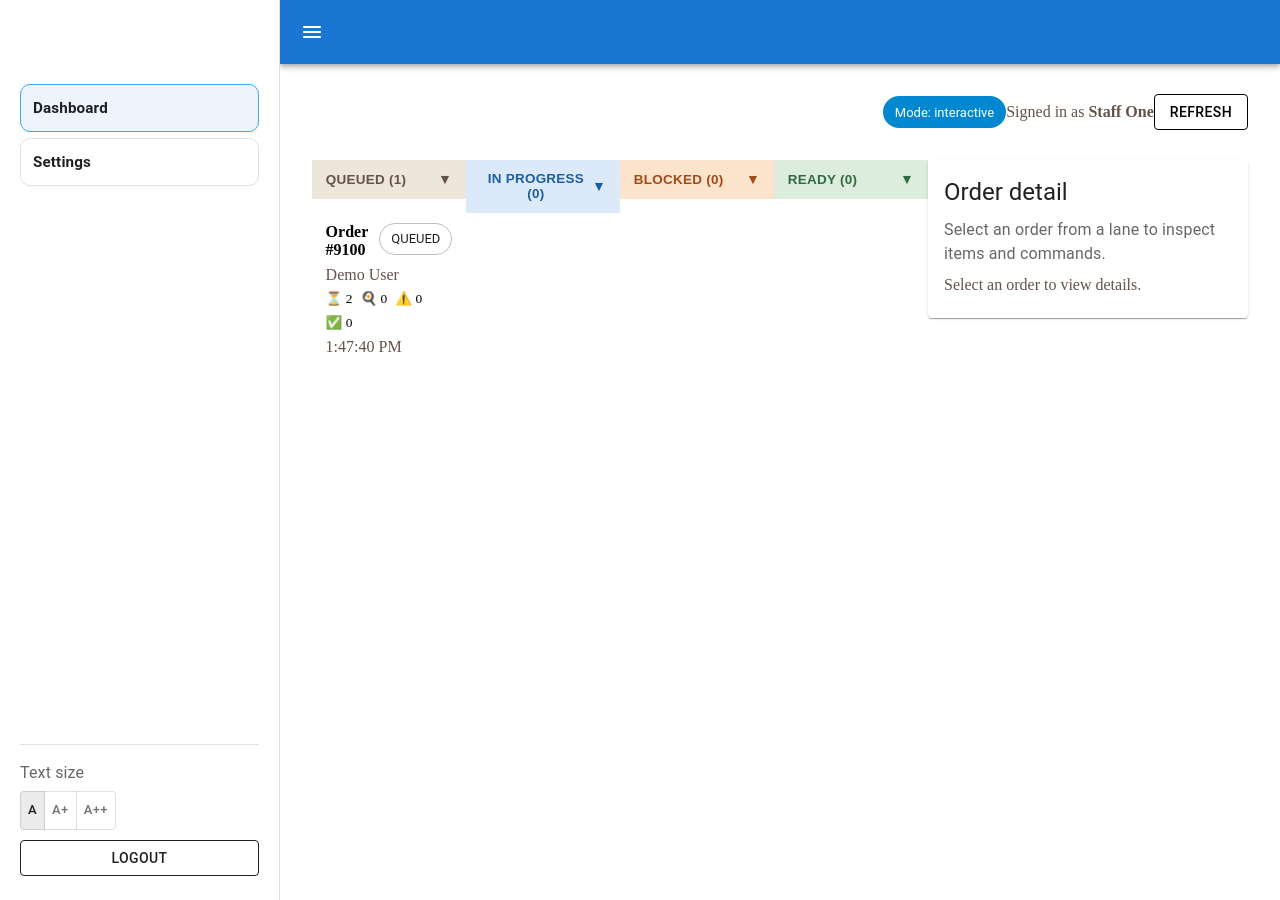
Test case: Staff client — state machine flows › opens detail rail after clicking order in lane and shows item commands
Note: Click order to open detail
Click the button with test id "order-9100". click: (389, 290)
box: top-left (312, 209), bottom-right (466, 370)
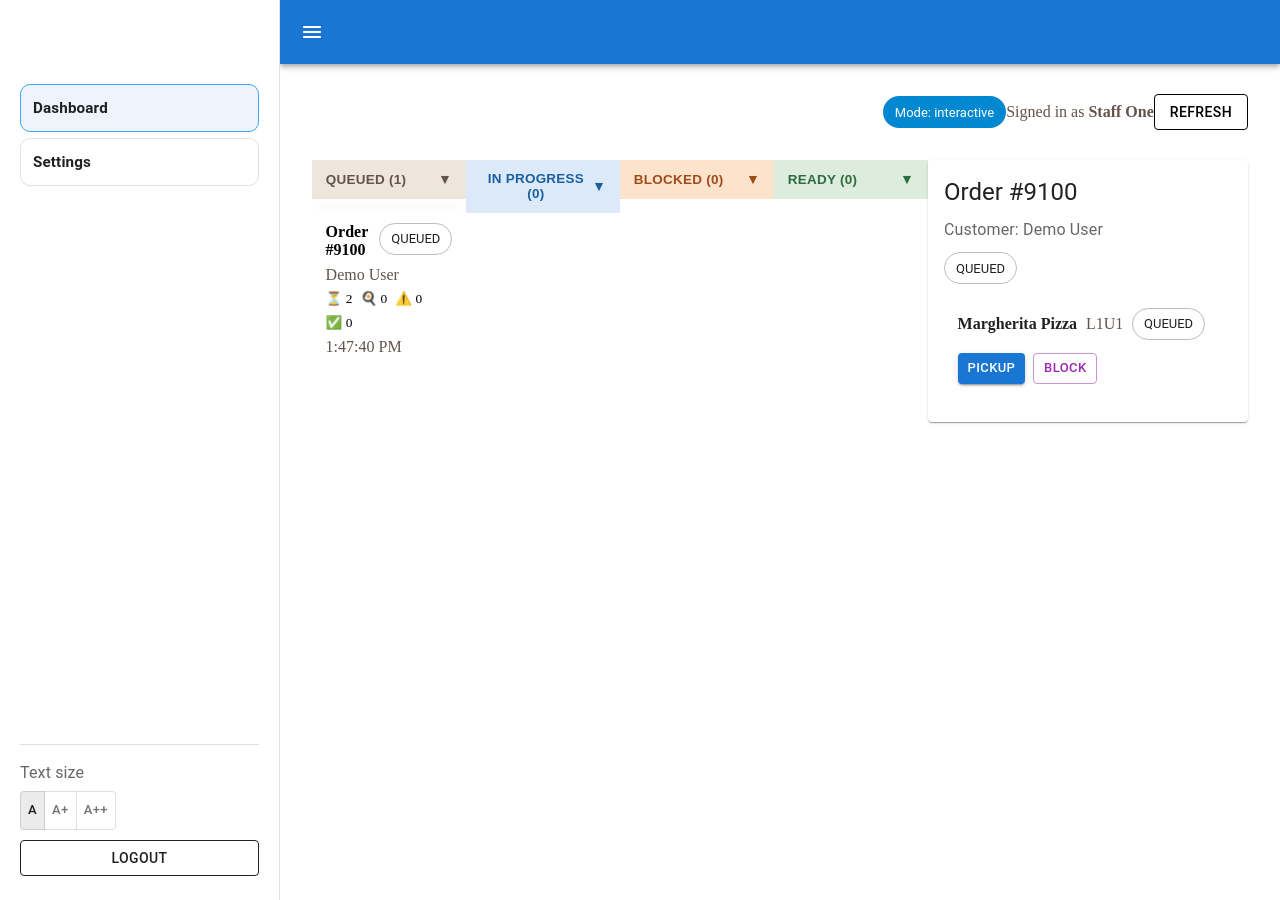
Expected: the list item with test id "item-item-1" is shown, top-left (944, 294), bottom-right (1232, 398)
Expected: the heading "Order #9100" is shown, top-left (944, 178), bottom-right (1078, 206)
Expected: the text "Margherita Pizza" is shown, top-left (958, 315), bottom-right (1077, 333)
